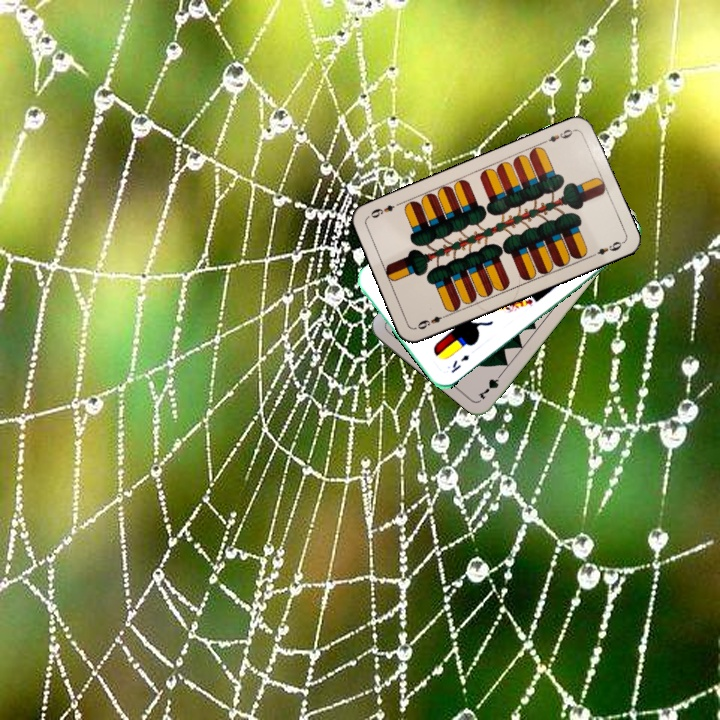E9: (413, 310, 451, 332), (539, 125, 578, 146)
EK: (447, 350, 472, 375)
G7: (474, 367, 507, 402)
